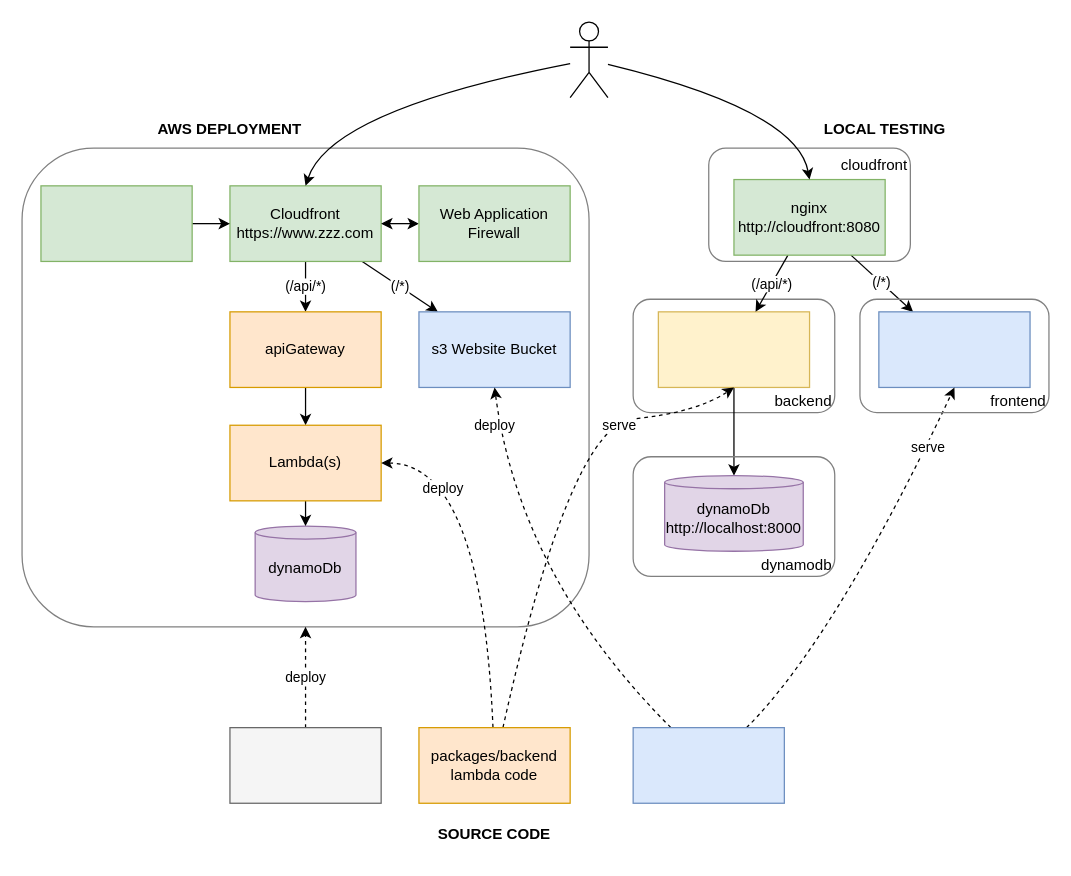
Image size: 1071x876. Some labels were removed from this diagram. The centre of each missing label's shape, as x and y in pixels:
ACM Certificate: point 116,223
Angular Server http://frontend:4200: point 954,349
express server http://backend:3000: point 733,349
packages/cdk: point 305,764
packages/frontend angular code: point 708,764
User: point 588,59
